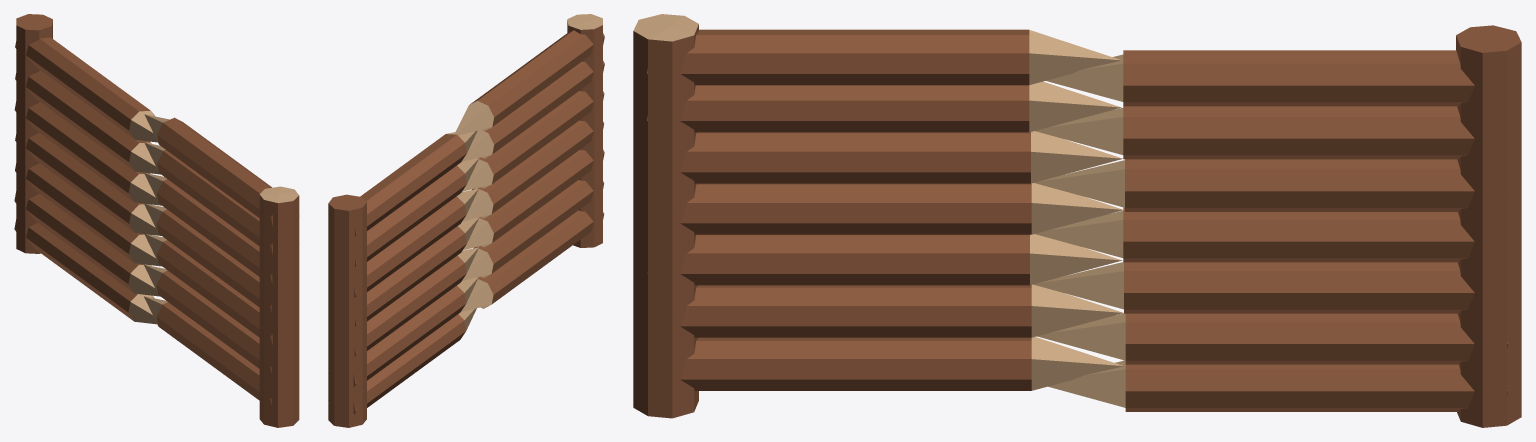
File: Portao.fbx
3 renders of one model, left to right at view 1: azimuth 30°, elevation 25°; view 2: azimuth 150°, elevation 25°; view 3: azimuth 270°, elevation 25°, orthographic. The views are drawn at different scales.
Parts seen in each view (by area): view 1: Barricade 1.004, Barricade 1.005; view 2: Barricade 1.005, Barricade 1.004; view 3: Barricade 1.004, Barricade 1.005.
Part boxes in pixels (x1,y1,x2,y2): Barricade 1.004: (144, 114, 299, 427); Barricade 1.005: (14, 14, 161, 324); Barricade 1.005: (328, 131, 478, 427); Barricade 1.004: (454, 14, 604, 311); Barricade 1.004: (633, 14, 1123, 418); Barricade 1.005: (1033, 25, 1521, 427).
Bounding box in the file's own units: 103 × 672 × 1395.
